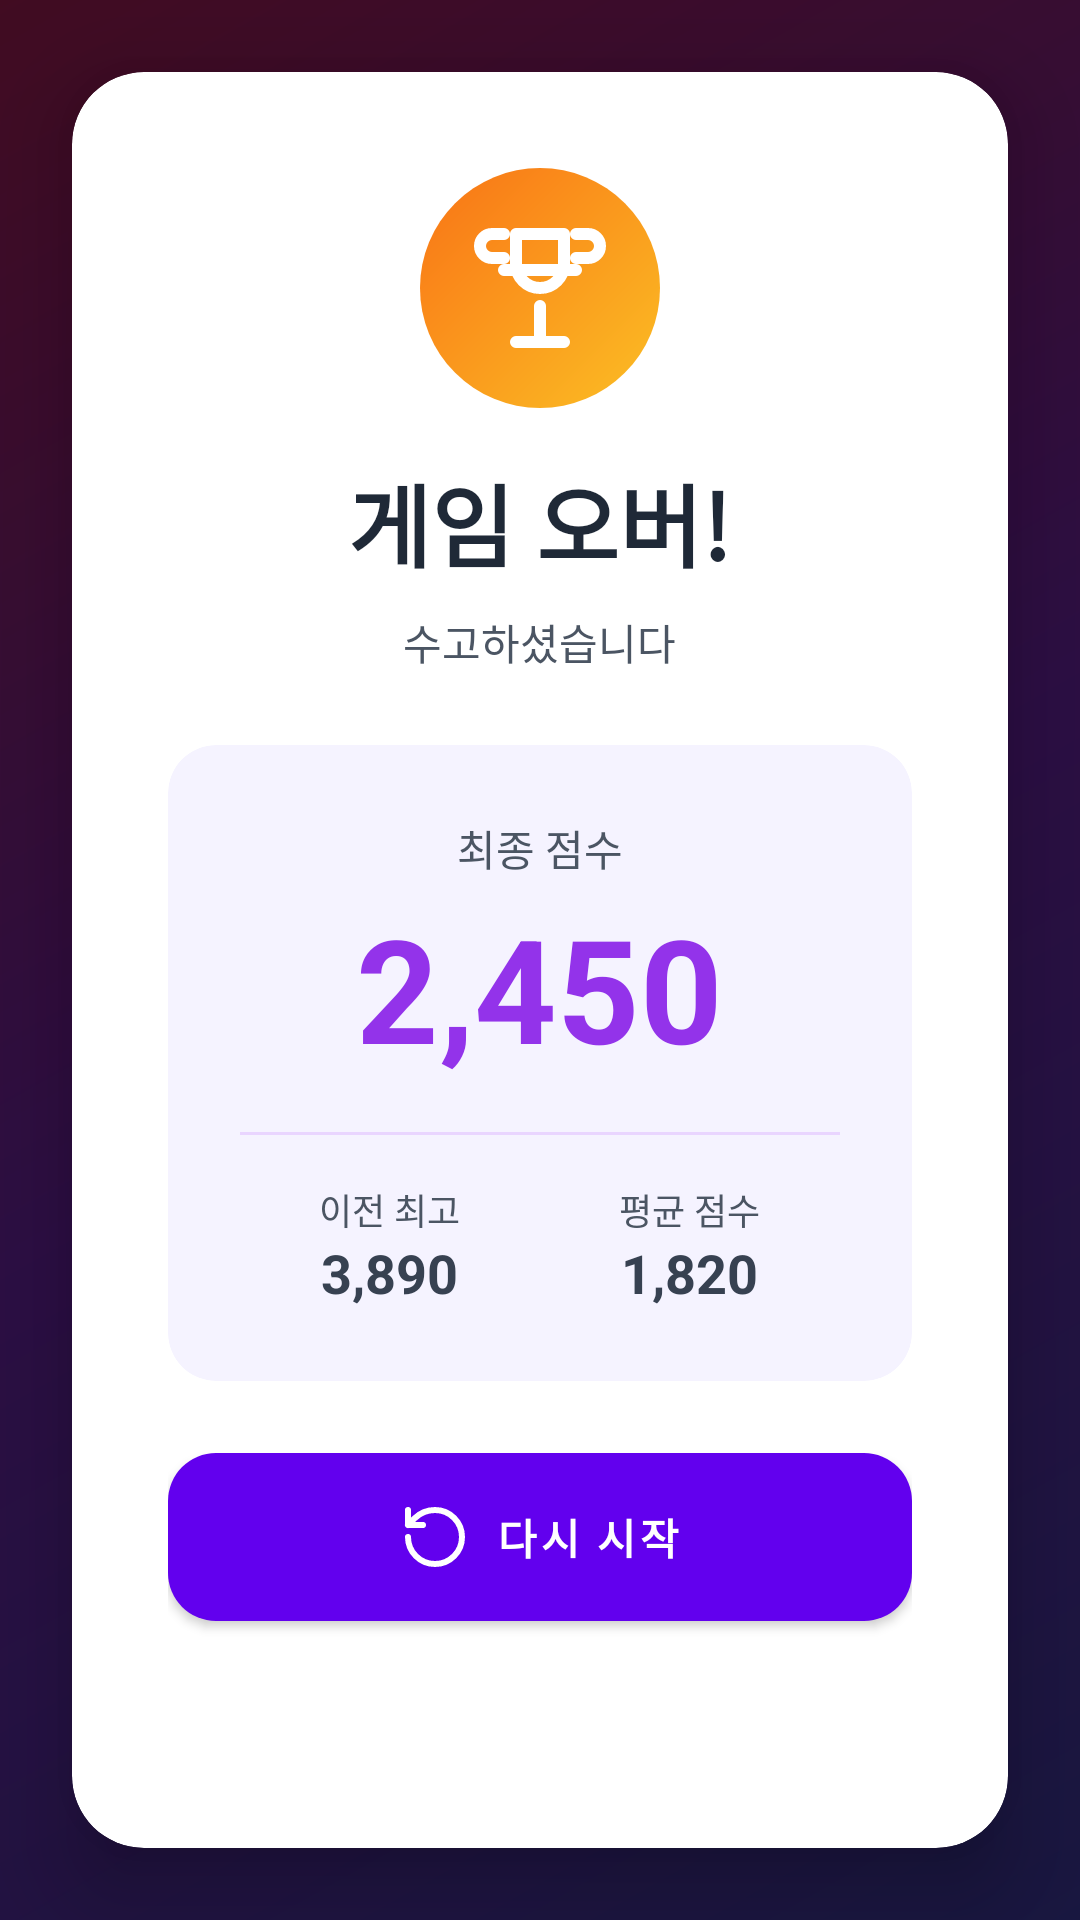

Named icons in this screenshot (1080 x 1920) and their bounding boxes, (x1, y1, x2, y2):
트로피: (474, 228, 606, 348)
